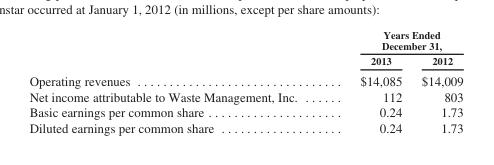table: (28, 28, 462, 134)
table column: (28, 28, 328, 134), (328, 28, 411, 134), (411, 28, 462, 134)
table column header: (28, 28, 462, 69)
table row: (28, 28, 462, 52), (28, 69, 462, 88), (28, 52, 462, 69), (28, 103, 462, 119), (28, 88, 462, 103), (28, 119, 462, 134)
table spanning cell: (328, 28, 462, 52)
